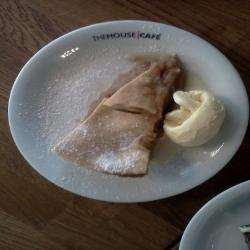apple_pie: (68, 58, 172, 173)
icecream: (165, 86, 221, 147)
